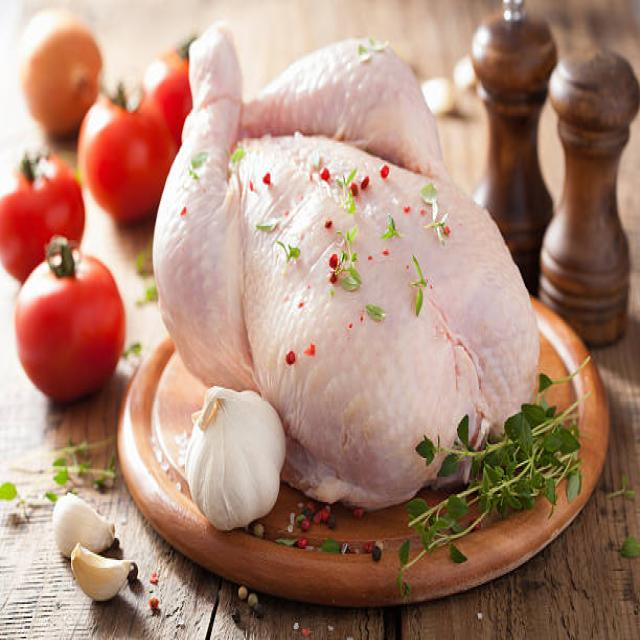Chicken: (150, 23, 556, 522)
